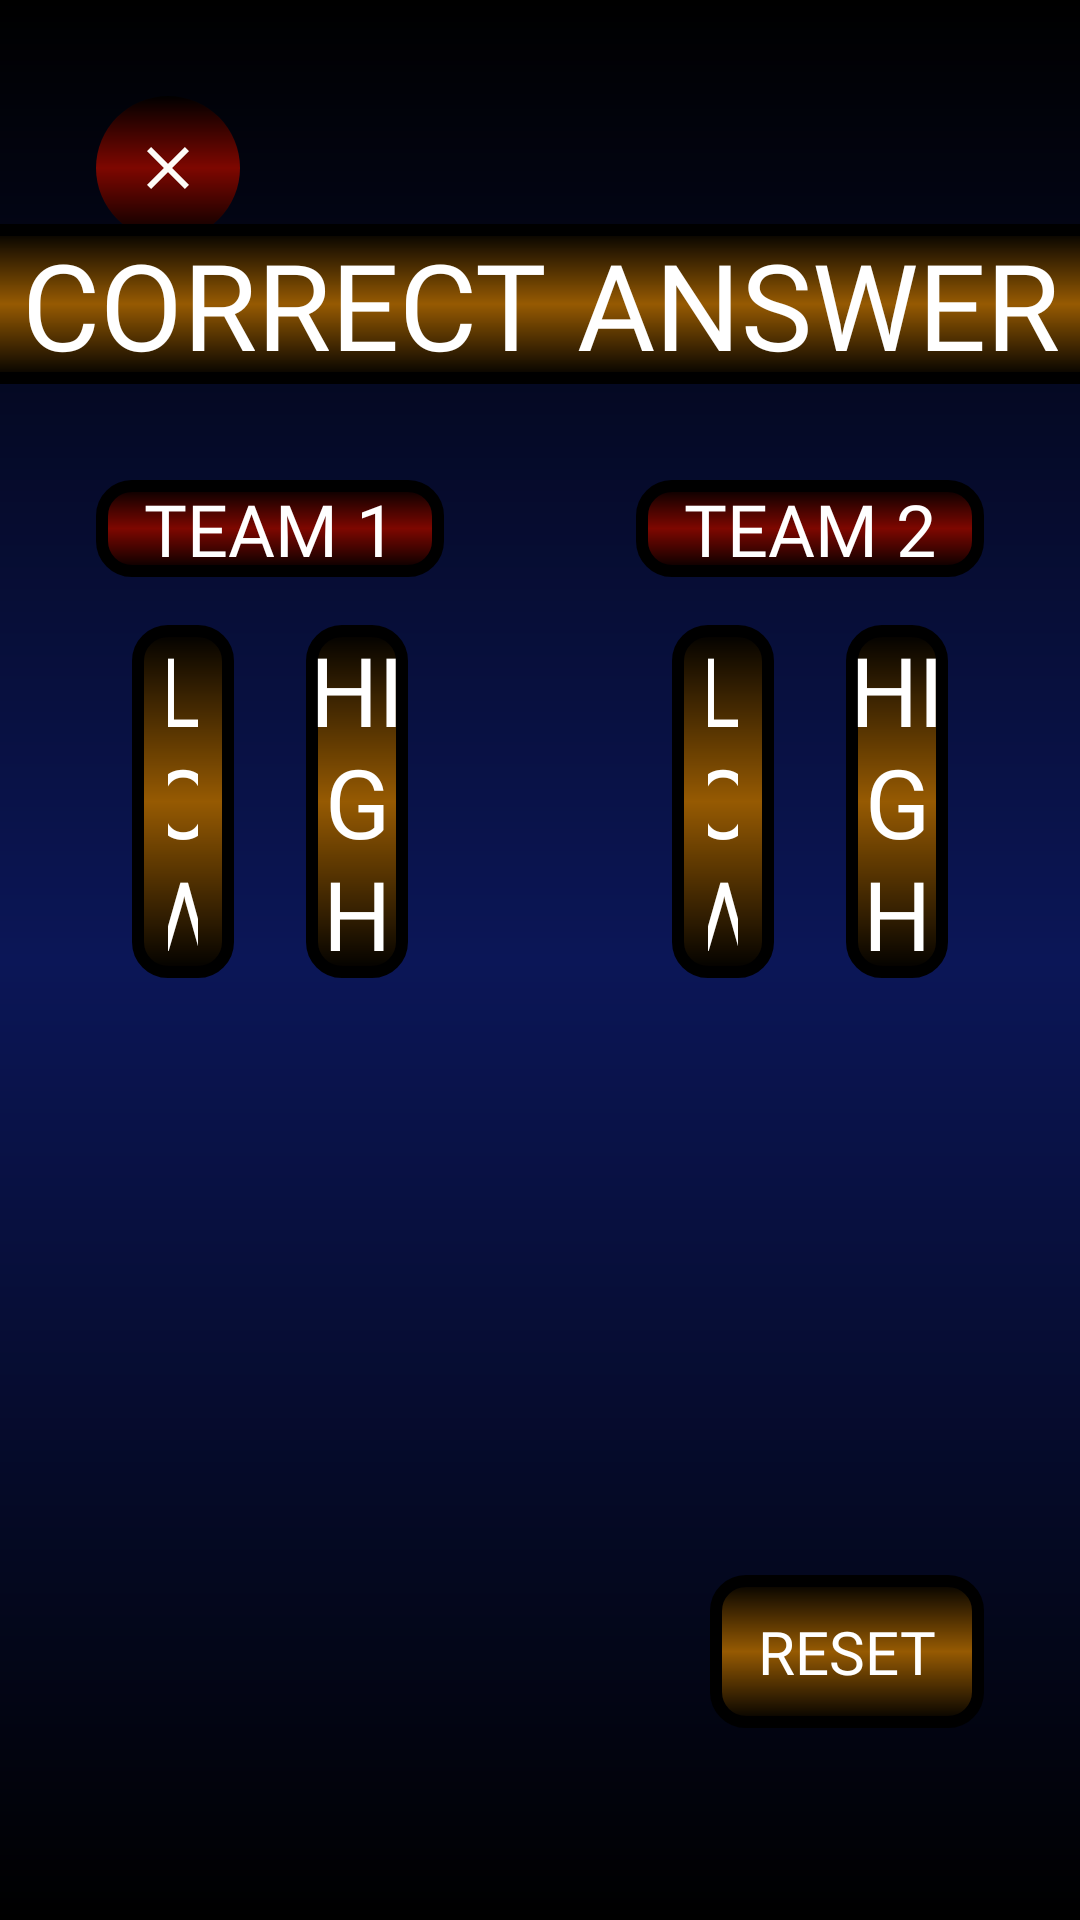

Point at icon controls on the screen. Image size 1080px x 1920px, points as (x,y).
close: (168,167)
